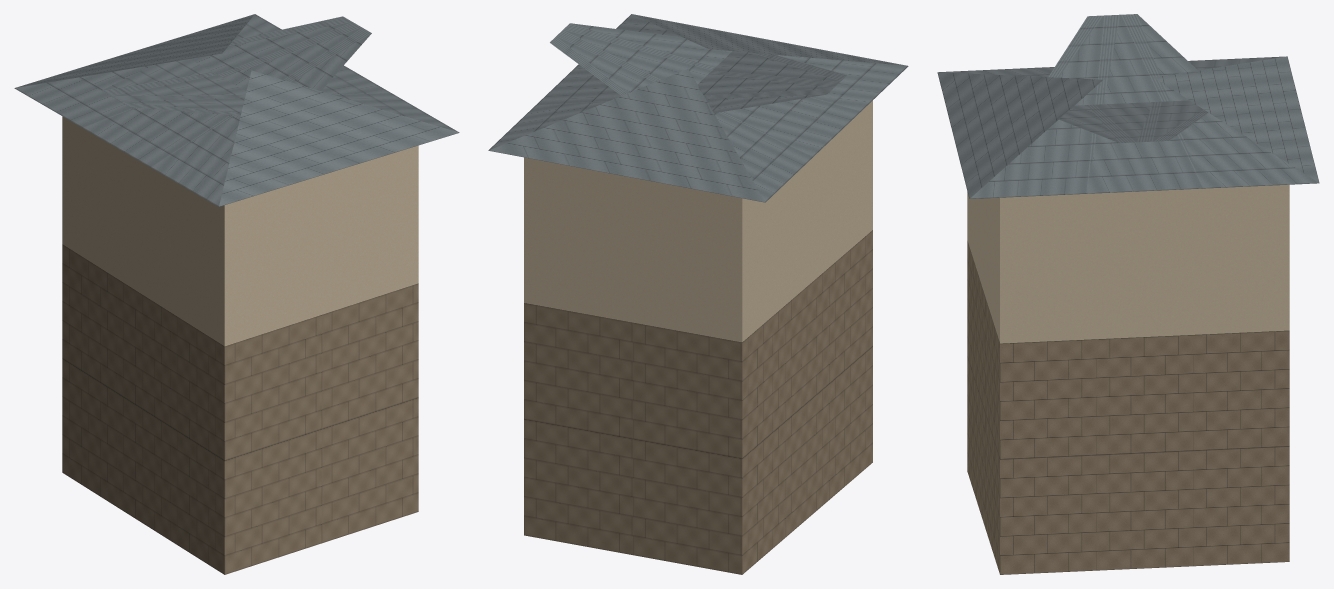
File: bld_c-18_-20_780.gltf
3 renders of one model, left to right at view 1: azimuth 30°, elevation 25°; view 2: azimuth 150°, elevation 25°; view 3: azimuth 270°, elevation 25°, orthographic.
Visible parts, largest first — view 1: bld_c-18_-20_780; view 2: bld_c-18_-20_780; view 3: bld_c-18_-20_780.
Boxes of the visible parts, bbox=[...] form: bld_c-18_-20_780: bbox=[14, 14, 459, 574]; bld_c-18_-20_780: bbox=[488, 14, 908, 574]; bld_c-18_-20_780: bbox=[937, 14, 1319, 574].
Bounding box in the file's own units: 6.22 × 8.9 × 7.04.
Materials: 3 (3 with a texture image).
